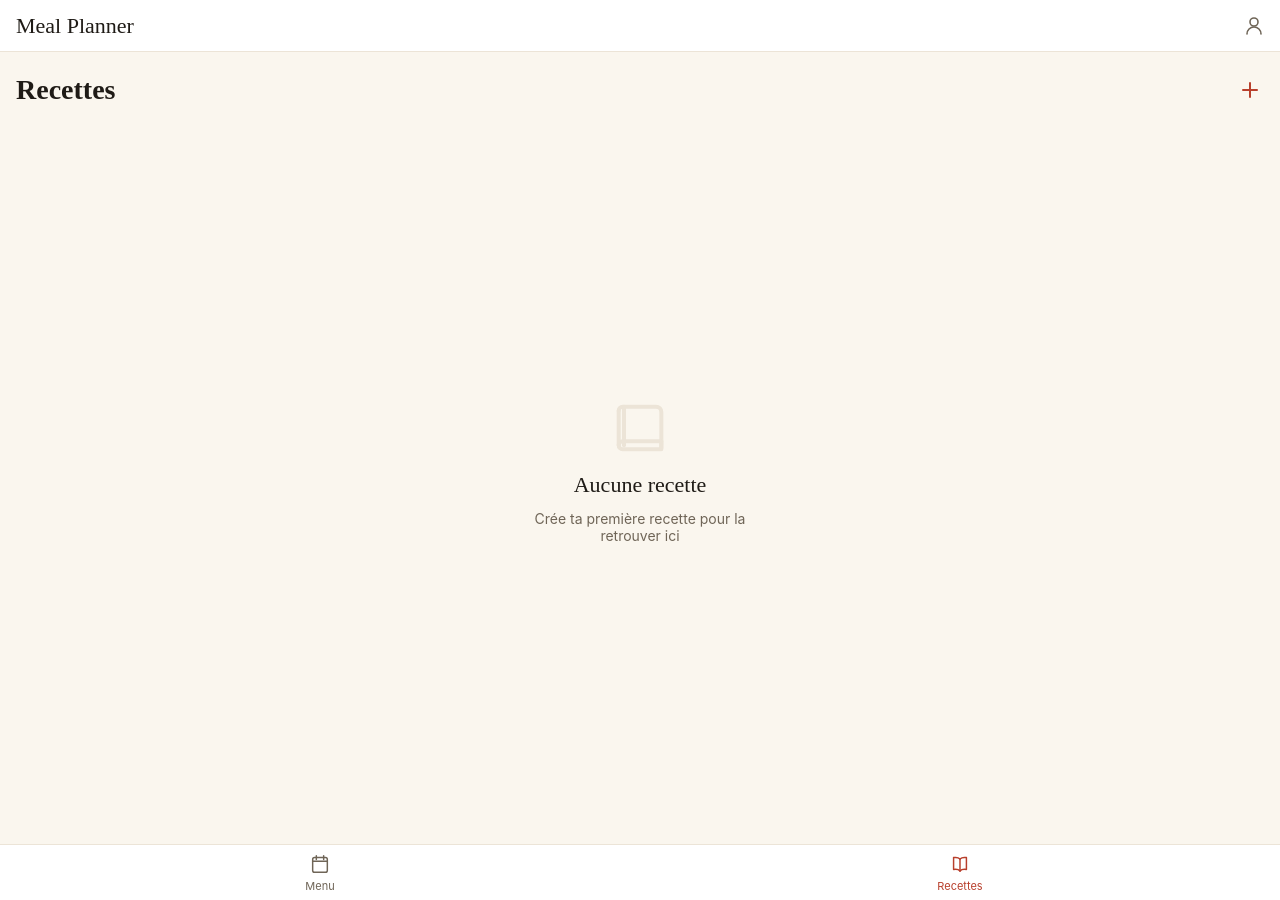
it: App › permet la déconnexion via la sheet ouverte par l’icône Compte
Click the button named "compte": (1254, 26) [1232,4,1276,48]
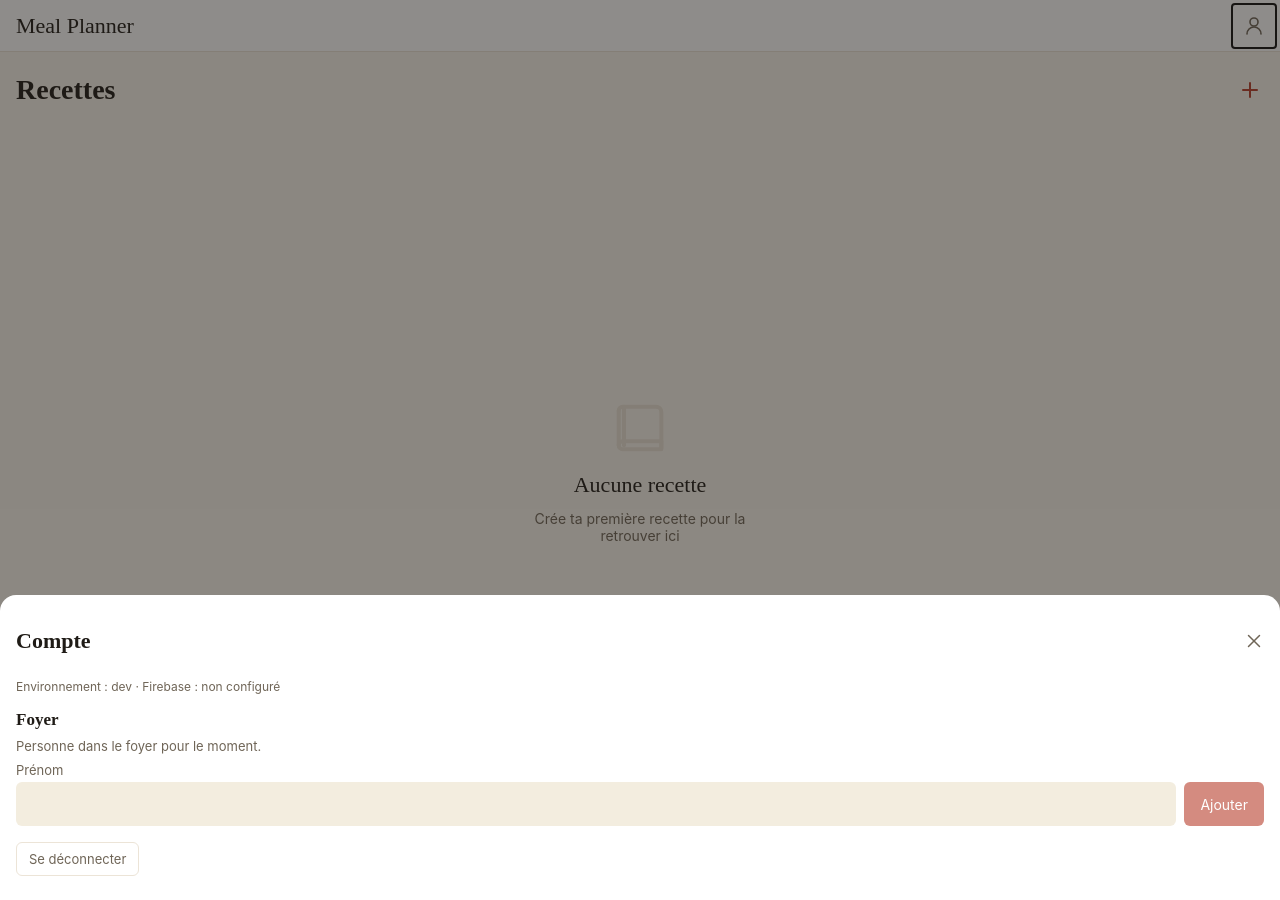
Check: the button "Se déconnecter" is shown, box [16,842,139,876]
